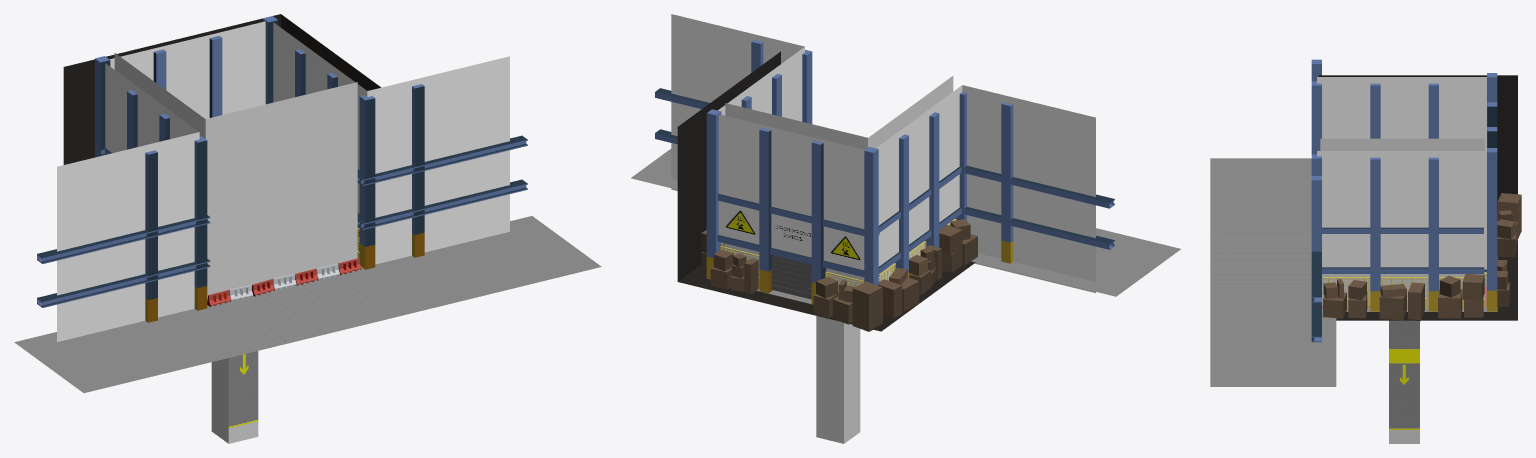
File: level_4.glb
3 views of the same model, side by side, from view 1: azimuth 30°, elevation 25°; view 2: azimuth 150°, elevation 25°; view 3: azimuth 270°, elevation 25° (orthographic). The views are drawn at different scales.
Parts seen in each view (by area): view 1: walls, floor, WALLS, pillars, beams, background, barriers, GROUND; view 2: walls, pillars, boxes, background, beams, floor, GROUND, WALLS, slide_door, fences; view 3: floor, walls, pillars, boxes, background, WALLS, beams, fences, GROUND.
Part boxes in pixels (x1=…): walls: x1=57, y1=21, x2=509, y2=341; floor: x1=14, y1=216, x2=601, y2=428; WALLS: x1=114, y1=53, x2=357, y2=300; pillars: x1=95, y1=16, x2=424, y2=322; beams: x1=37, y1=135, x2=527, y2=307; background: x1=63, y1=14, x2=380, y2=164; barriers: x1=207, y1=258, x2=361, y2=306; GROUND: x1=211, y1=358, x2=258, y2=443; walls: x1=671, y1=14, x2=1095, y2=292; pillars: x1=706, y1=40, x2=1013, y2=304; boxes: x1=701, y1=219, x2=977, y2=331; background: x1=677, y1=51, x2=975, y2=331; beams: x1=655, y1=88, x2=1114, y2=277; floor: x1=631, y1=149, x2=1180, y2=304; GROUND: x1=816, y1=316, x2=860, y2=443; WALLS: x1=725, y1=76, x2=953, y2=291; slide_door: x1=771, y1=255, x2=811, y2=299; fences: x1=720, y1=219, x2=956, y2=289; floor: x1=1210, y1=158, x2=1497, y2=429; walls: x1=1317, y1=77, x2=1486, y2=269; pillars: x1=1311, y1=59, x2=1497, y2=311; boxes: x1=1323, y1=193, x2=1521, y2=321; background: x1=1318, y1=75, x2=1517, y2=320; WALLS: x1=1320, y1=138, x2=1484, y2=305; beams: x1=1311, y1=227, x2=1486, y2=342; fences: x1=1323, y1=277, x2=1485, y2=308; GROUND: x1=1389, y1=430, x2=1419, y2=443.
Bounding box in the file's own units: 105 × 71.14 × 60.47.
Materials: 17 (3 with a texture image).
